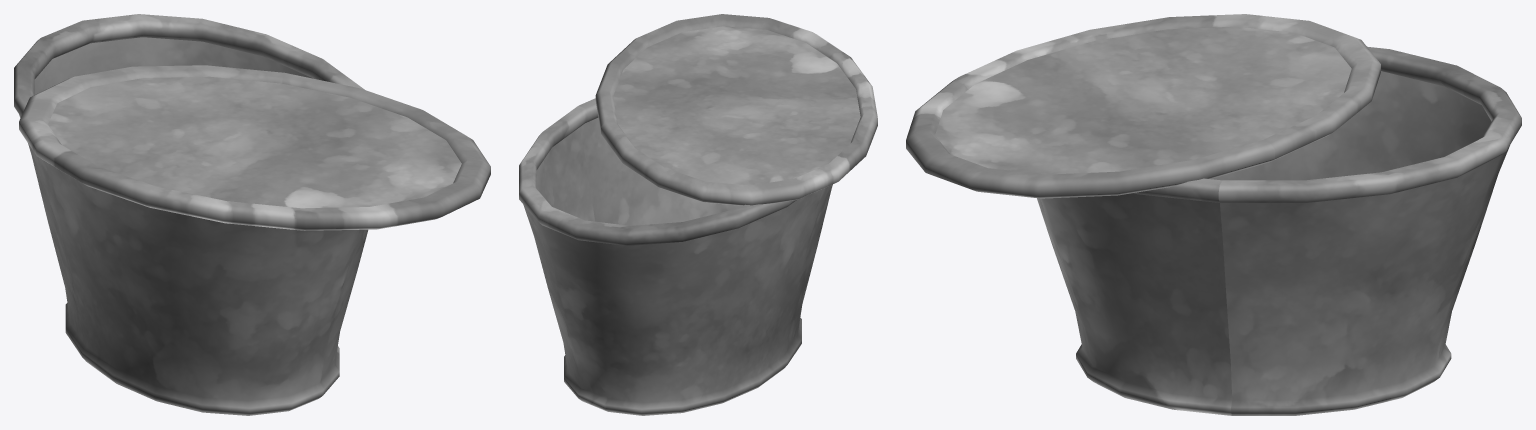
Rendered from SM_WickerBasket_02c.fbx.
3 renders of one model, left to right at view 1: azimuth 30°, elevation 25°; view 2: azimuth 150°, elevation 25°; view 3: azimuth 270°, elevation 25°, orthographic. The views are drawn at different scales.
Visible parts, largest first — view 1: SM_WickerBasket_02c_LOD0; view 2: SM_WickerBasket_02c_LOD0; view 3: SM_WickerBasket_02c_LOD0.
Boxes of the visible parts, x1,y1,x2,y2 form: SM_WickerBasket_02c_LOD0: [14, 14, 490, 415]; SM_WickerBasket_02c_LOD0: [519, 14, 877, 415]; SM_WickerBasket_02c_LOD0: [906, 14, 1521, 415].
Size of the model in its own units: 49.23 by 74.55 by 35.34.
